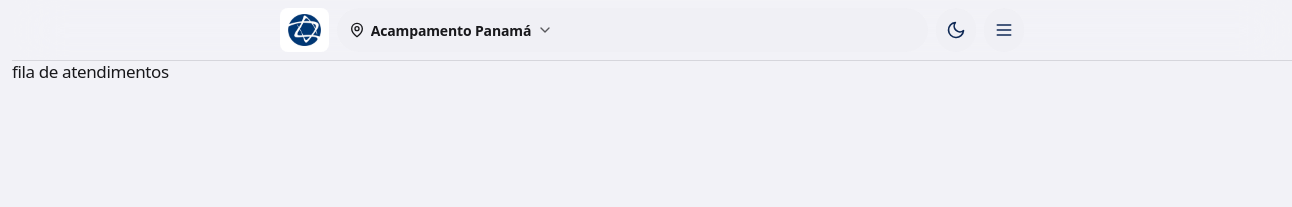
Test: Troca de missão pelo cabeçalho › diz o tipo de missão de cada base, e qual é a de agora
This screenshot has width=1292, height=207.
Expected: the text "fila de atendimentos" is shown, [12,60,169,83]
Click the button with aria-label "Trocar base" at (451, 30), box [337,8,928,52]
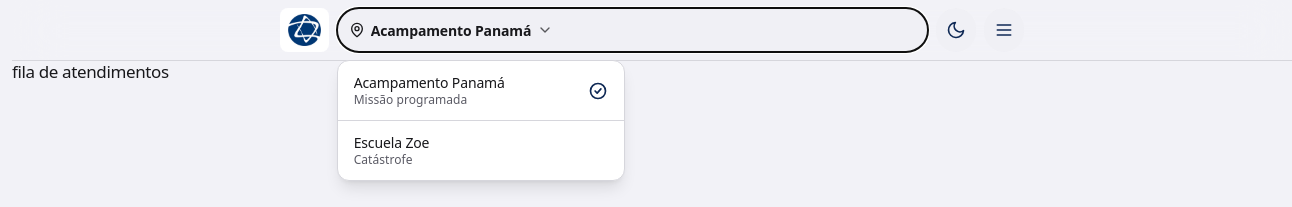
Now the text "Catástrofe" is shown, box [354,151,412,168]
Now the text "Missão programada" is shown, box [354,91,467,108]
